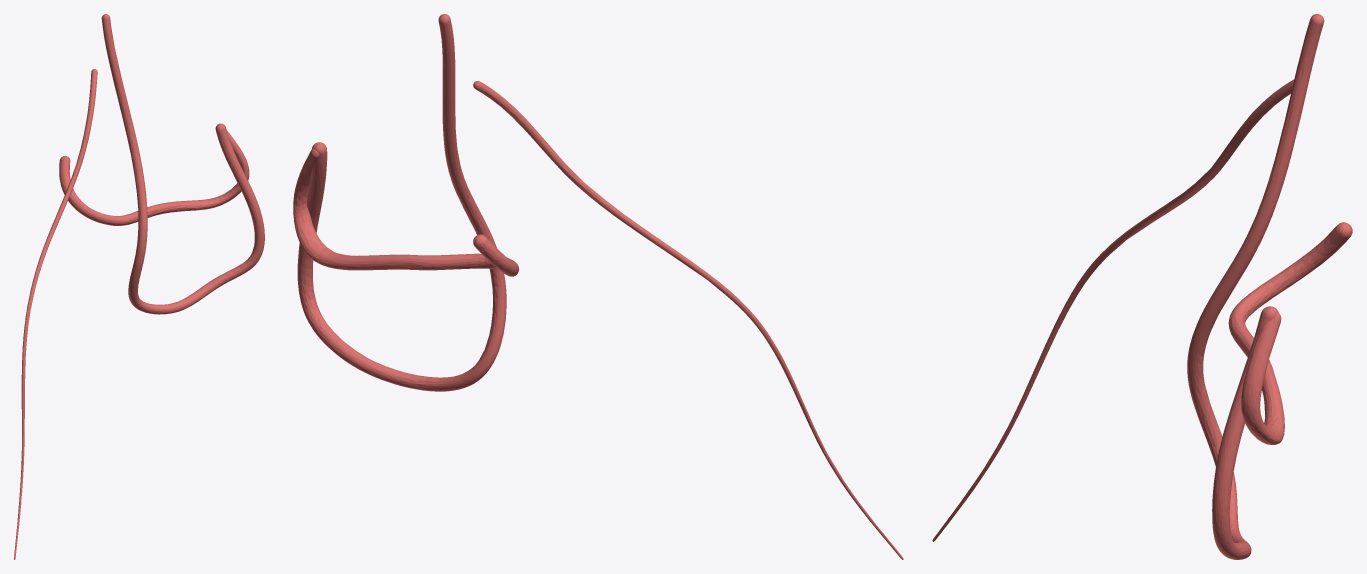
Rendered from hand-artery.glb.
3 views of the same model, side by side, from view 1: azimuth 30°, elevation 25°; view 2: azimuth 150°, elevation 25°; view 3: azimuth 270°, elevation 25° (orthographic). The views are drawn at different scales.
Parts seen in each view (by area): view 1: superficial-palmar-arch__BP6606, deep-palmar-arch__BP6603, princeps-pollicis-artery__BP6234; view 2: superficial-palmar-arch__BP6606, deep-palmar-arch__BP6603, princeps-pollicis-artery__BP6234; view 3: superficial-palmar-arch__BP6606, deep-palmar-arch__BP6603, princeps-pollicis-artery__BP6234.
Boxes of the visible parts, <box> form: superficial-palmar-arch__BP6606: <box>101,14,264,314</box>; deep-palmar-arch__BP6603: <box>59,131,249,225</box>; princeps-pollicis-artery__BP6234: <box>14,69,97,559</box>; superficial-palmar-arch__BP6606: <box>297,14,506,391</box>; deep-palmar-arch__BP6603: <box>293,148,519,276</box>; princeps-pollicis-artery__BP6234: <box>473,81,903,559</box>; superficial-palmar-arch__BP6606: <box>1187,14,1324,559</box>; deep-palmar-arch__BP6603: <box>1228,222,1352,444</box>; princeps-pollicis-artery__BP6234: <box>932,79,1294,541</box>.
Size of the model in its own units: 0.8965 by 1.05 by 0.5766.
